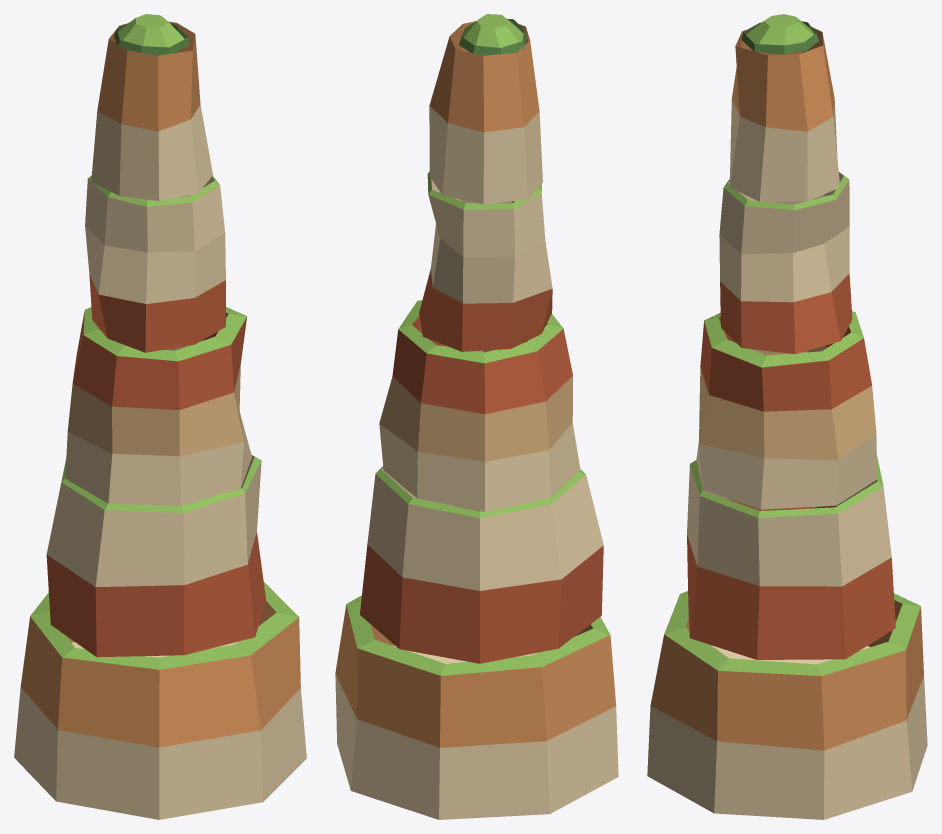
Rendered from rock_spire_c.glb.
3 renders of one model, left to right at view 1: azimuth 30°, elevation 25°; view 2: azimuth 150°, elevation 25°; view 3: azimuth 270°, elevation 25°, orthographic.
Parts seen in each view (by area): view 1: rock_spire_c; view 2: rock_spire_c; view 3: rock_spire_c.
Part boxes in pixels (left/top/right/bottom): rock_spire_c: left=14, top=14, right=306, bottom=819; rock_spire_c: left=335, top=14, right=618, bottom=819; rock_spire_c: left=647, top=14, right=927, bottom=819.
Bounding box in the file's own units: 14.61 × 41.95 × 14.52.
